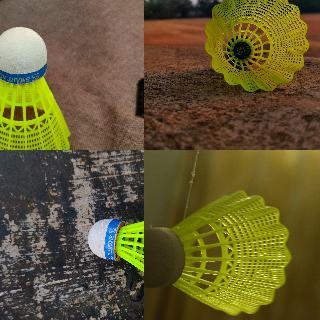shuttlecock: (144, 190, 292, 317), (203, 0, 310, 93), (0, 28, 72, 149), (87, 201, 143, 309)
